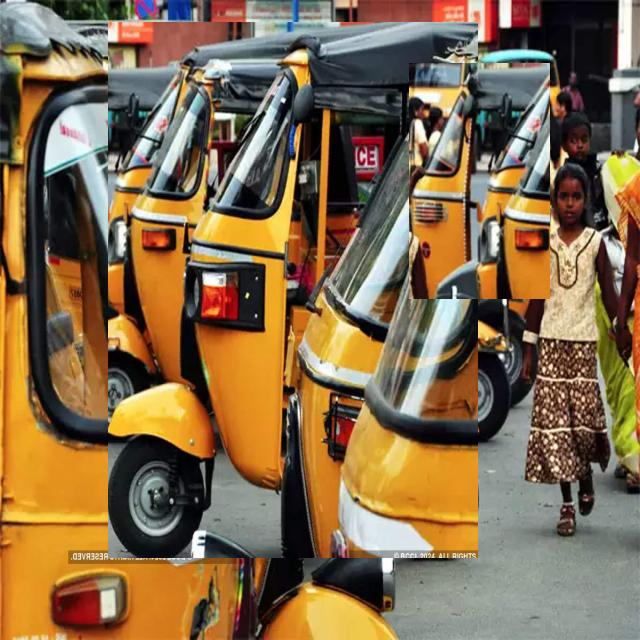autorickshaw: (108, 22, 478, 558), (0, 3, 256, 638), (298, 35, 530, 404), (309, 60, 510, 438), (409, 64, 550, 299)
